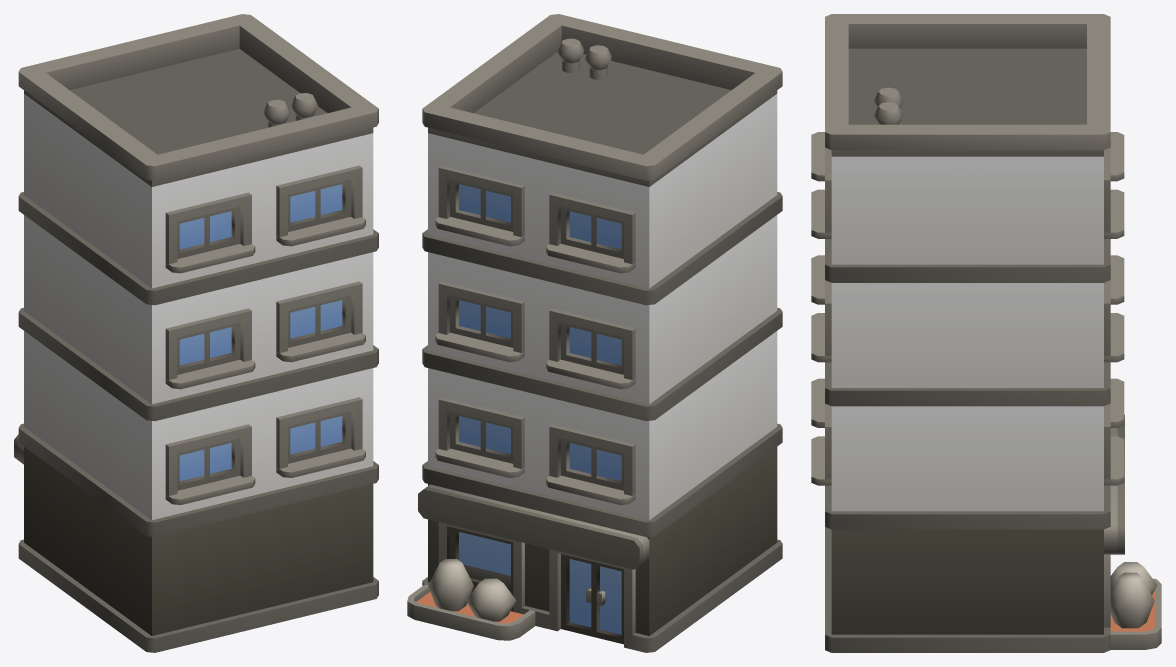
The model's file is com-building-f.glb.
3 views of the same model, side by side, from view 1: azimuth 30°, elevation 25°; view 2: azimuth 150°, elevation 25°; view 3: azimuth 270°, elevation 25° (orthographic). The views are drawn at different scales.
Visible parts, largest first — view 1: building-f; view 2: building-f; view 3: building-f.
Part boxes in pixels (x1=…): building-f: x1=14, y1=14, x2=378, y2=652; building-f: x1=407, y1=14, x2=782, y2=652; building-f: x1=811, y1=14, x2=1161, y2=652.
Bounding box in the file's own units: 0.84 × 1.69 × 1.03.
Materials: 1 (1 with a texture image).
